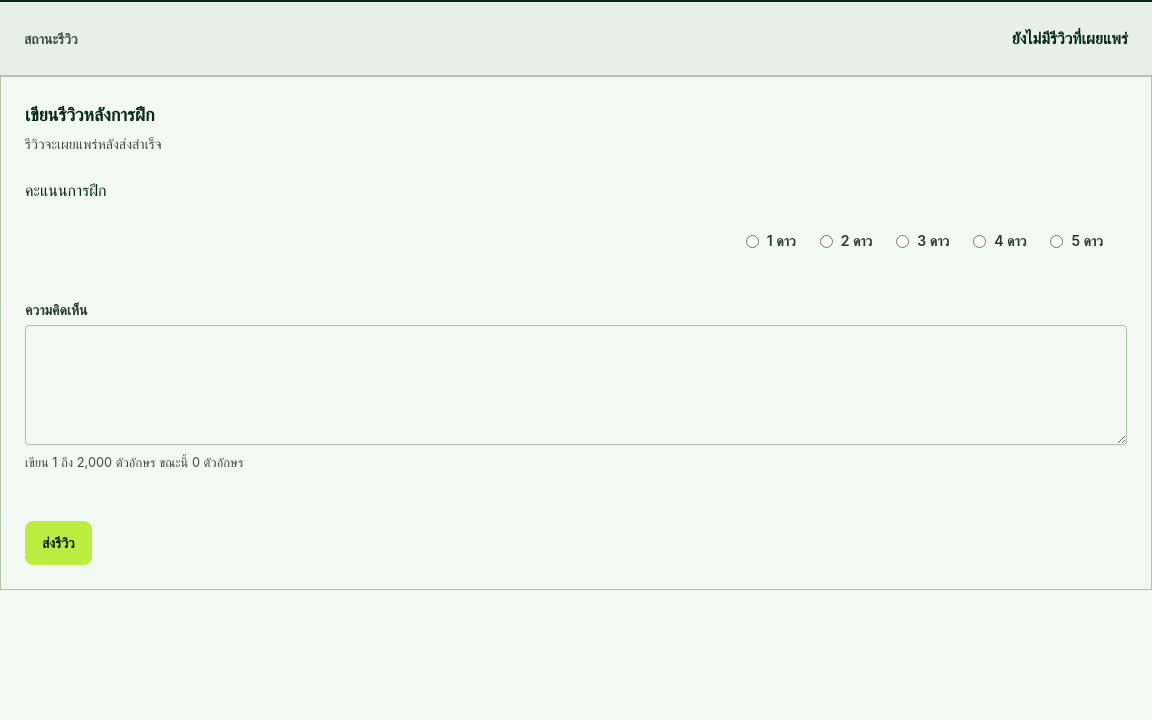
Scenario: ReviewForm › submits the exact rating and trimmed comment before awaiting refresh
Step 1. Click the radio button labelled "5 ดาว" → {"x": 1057, "y": 241}, box [1050,235,1064,248]
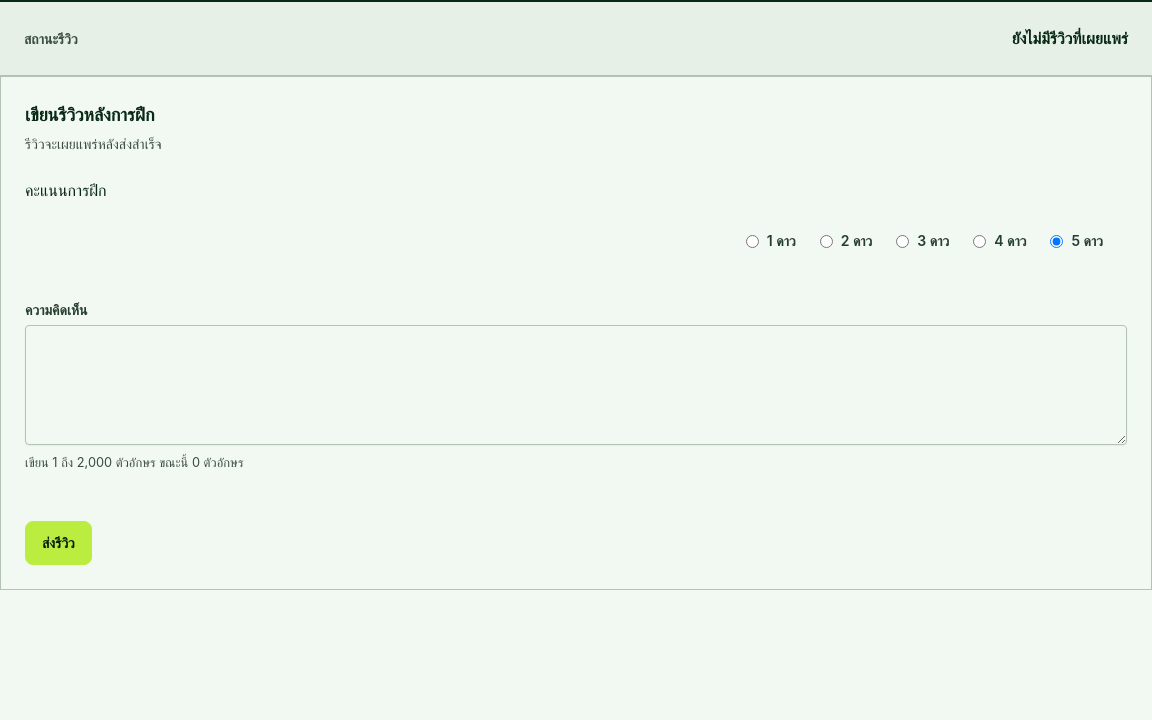
Step 2. Type "  อธิบายชัดเจนและตรงเวลา  " into the text box labelled "ความคิดเห็น" → {"x": 576, "y": 385}, box [25,325,1127,445]
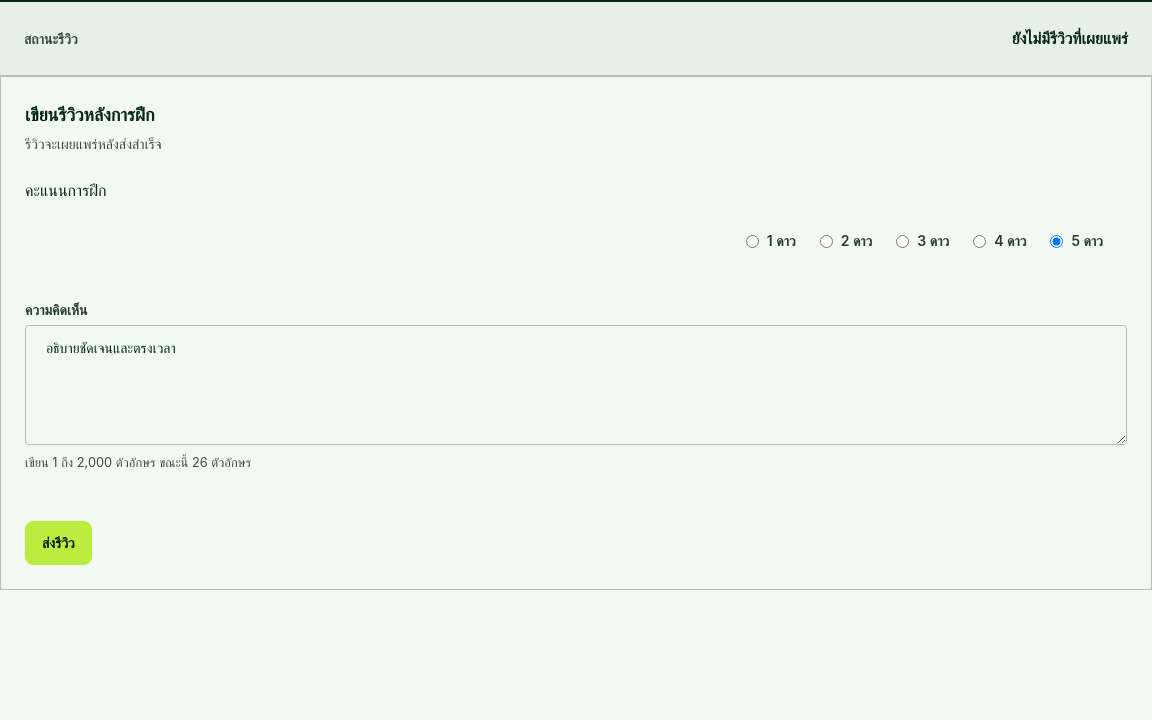
Step 3. Click the button "ส่งรีวิว" → {"x": 58, "y": 543}, box [25,521,92,565]
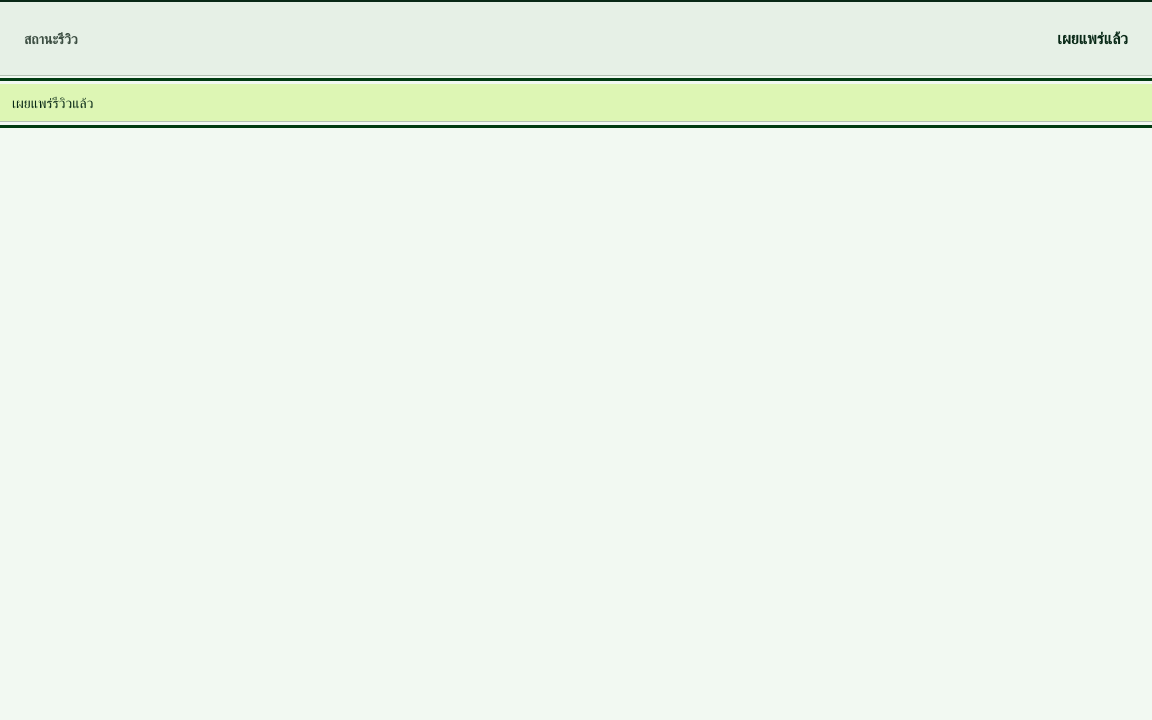
Check: the message reads "เผยแพร่รีวิวแล้ว", box [12,94,93,111]
